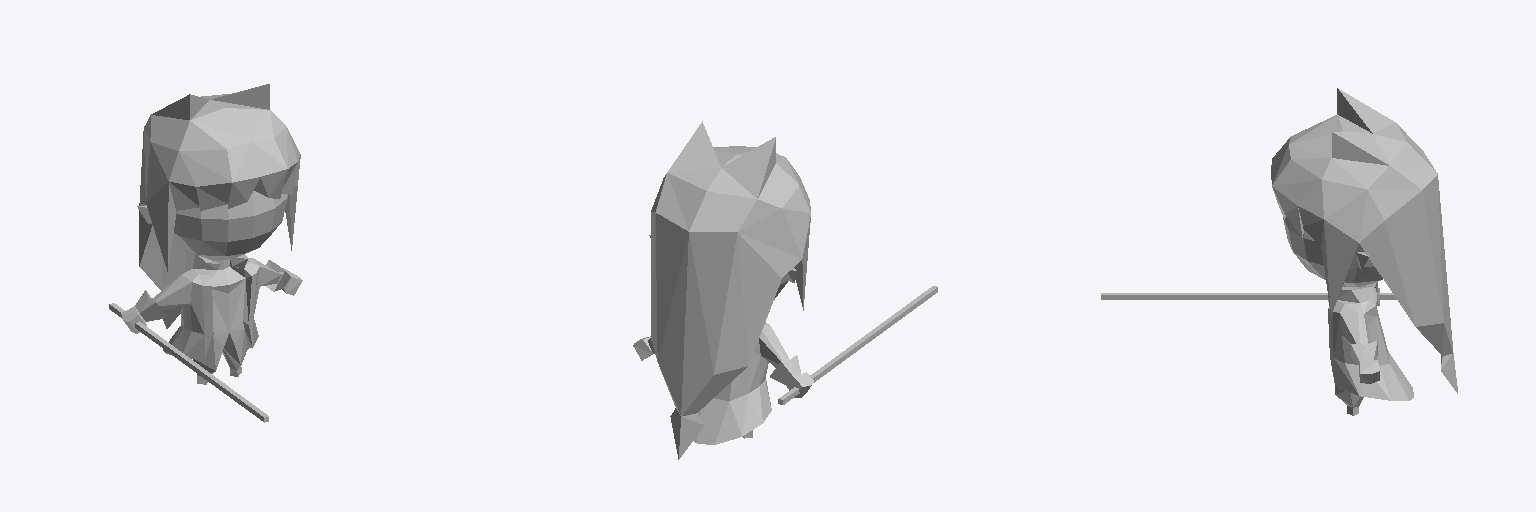
File: wooden_stick.obj
The picture shows the model from 3 angles: view 1: azimuth 30°, elevation 25°; view 2: azimuth 150°, elevation 25°; view 3: azimuth 270°, elevation 25°; orthographic projection.
Visible parts, largest first — view 1: Aleace, Weapon_Aleace.001; view 2: Aleace, Weapon_Aleace.001; view 3: Aleace, Weapon_Aleace.001.
Part boxes in pixels (x1,y1,x2,y2): Aleace: (121, 84, 302, 384); Weapon_Aleace.001: (109, 303, 268, 422); Aleace: (633, 121, 813, 459); Weapon_Aleace.001: (778, 286, 937, 404); Aleace: (1271, 88, 1457, 415); Weapon_Aleace.001: (1101, 293, 1396, 299).
Bounding box in the file's own units: 2.38 × 3.88 × 4.19.